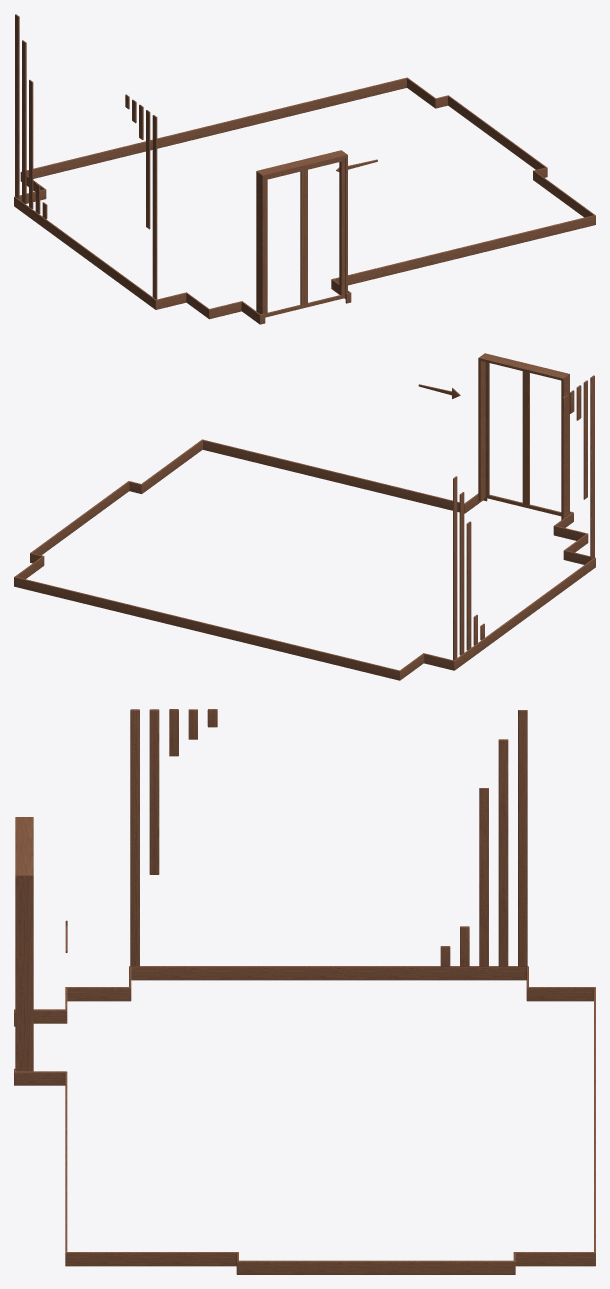
The model's file is legnobase.gltf.
The picture shows the model from 3 angles, top to bottom: view 1: azimuth 30°, elevation 25°; view 2: azimuth 150°, elevation 25°; view 3: azimuth 270°, elevation 25°; orthographic projection. The views are drawn at different scales.
Visible parts, largest first — view 1: battiscopa, stipite_porta, liste_legno; view 2: battiscopa, stipite_porta, liste_legno; view 3: battiscopa, liste_legno, stipite_porta.
Boxes of the visible parts, <box> form: battiscopa: <box>14,77,595,324</box>; stipite_porta: <box>256,150,347,317</box>; liste_legno: <box>15,14,157,299</box>; battiscopa: <box>14,439,595,680</box>; stipite_porta: <box>478,353,569,519</box>; liste_legno: <box>453,375,594,660</box>; battiscopa: <box>14,966,595,1274</box>; liste_legno: <box>130,709,527,966</box>; stipite_porta: <box>15,817,33,1071</box>.
Bounding box in the file's own units: 9.59 × 4.1 × 7.98.
Materials: 1 (1 with a texture image).
